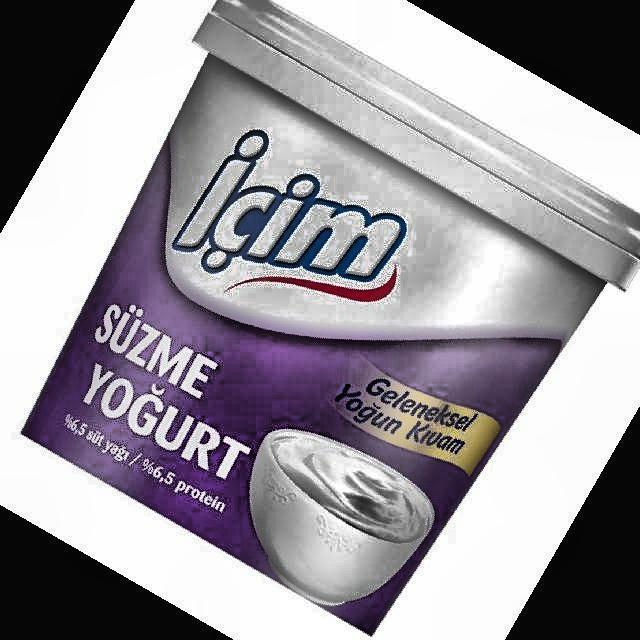plastic: (24, 1, 640, 632)
